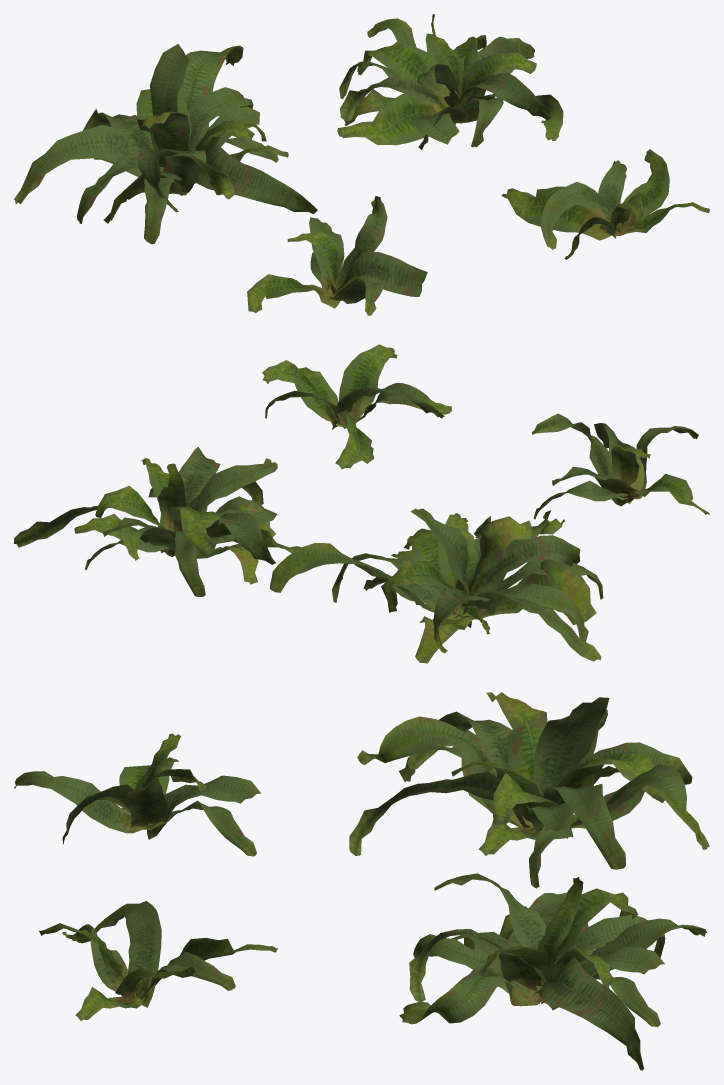
The model's file is webp.glb.
The picture shows the model from 3 angles, top to bottom: view 1: azimuth 30°, elevation 25°; view 2: azimuth 150°, elevation 25°; view 3: azimuth 270°, elevation 25°; orthographic projection. The views are drawn at different scales.
Parts seen in each view (by area): view 1: fern_02_b, fern_02_c, fern_02_d, fern_02_a; view 2: fern_02_b, fern_02_c, fern_02_d, fern_02_a; view 3: fern_02_b, fern_02_c, fern_02_a, fern_02_d.
Part boxes in pixels (bbox=[...]): fern_02_b: bbox=[14, 44, 317, 244]; fern_02_c: bbox=[337, 14, 563, 149]; fern_02_d: bbox=[501, 149, 709, 259]; fern_02_a: bbox=[247, 196, 427, 315]; fern_02_b: bbox=[269, 508, 603, 663]; fern_02_c: bbox=[14, 447, 301, 596]; fern_02_d: bbox=[262, 344, 451, 469]; fern_02_a: bbox=[531, 413, 709, 519]; fern_02_b: bbox=[349, 692, 709, 888]; fern_02_c: bbox=[399, 873, 707, 1070]; fern_02_a: bbox=[14, 733, 261, 856]; fern_02_d: bbox=[39, 901, 277, 1020].
Bounding box in the file's own units: 1.97 × 0.4277 × 1.72.
Materials: 1 (1 with a texture image).
